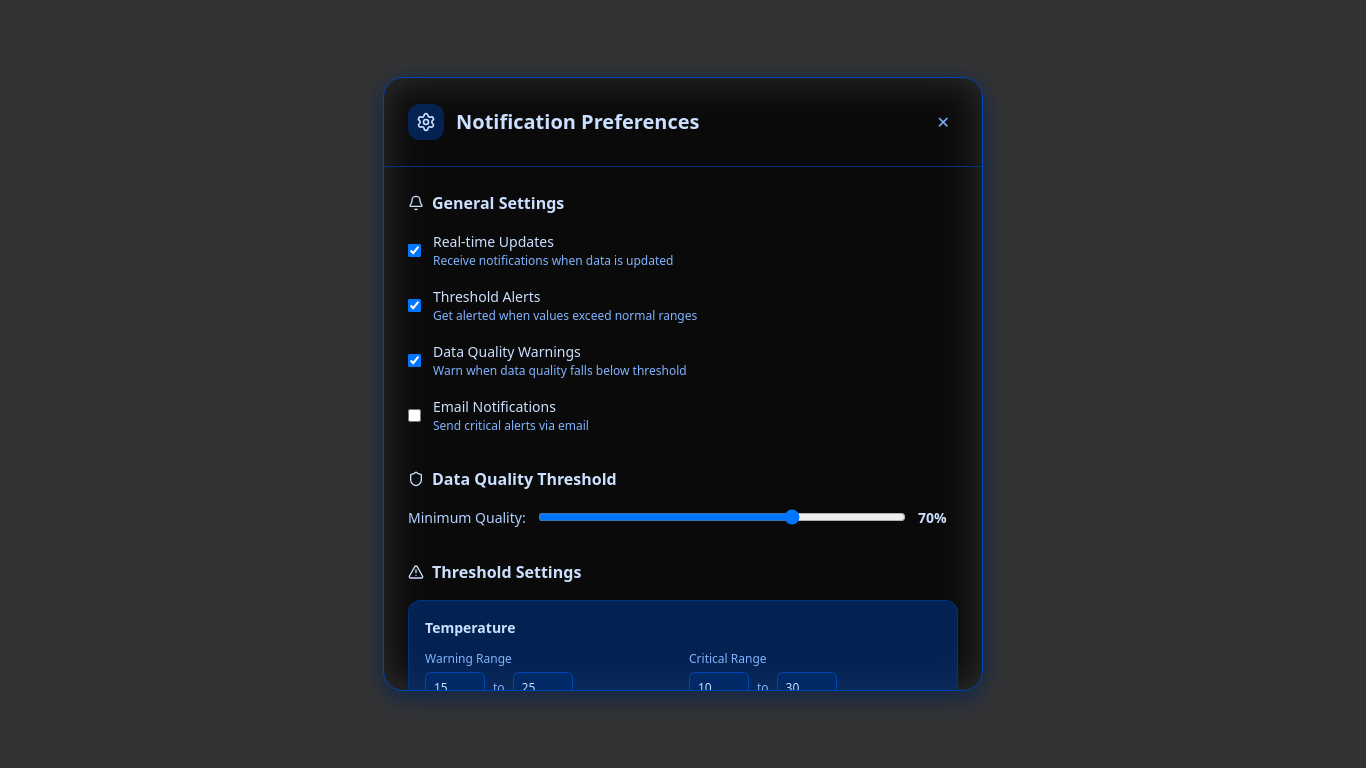
Scenario: NotificationPreferences › should toggle checkbox preferences
Click the checkbox labelled "Real-time Updates Receive notifications when data is updated" at {"x": 414, "y": 250}, box [408,244,421,257]
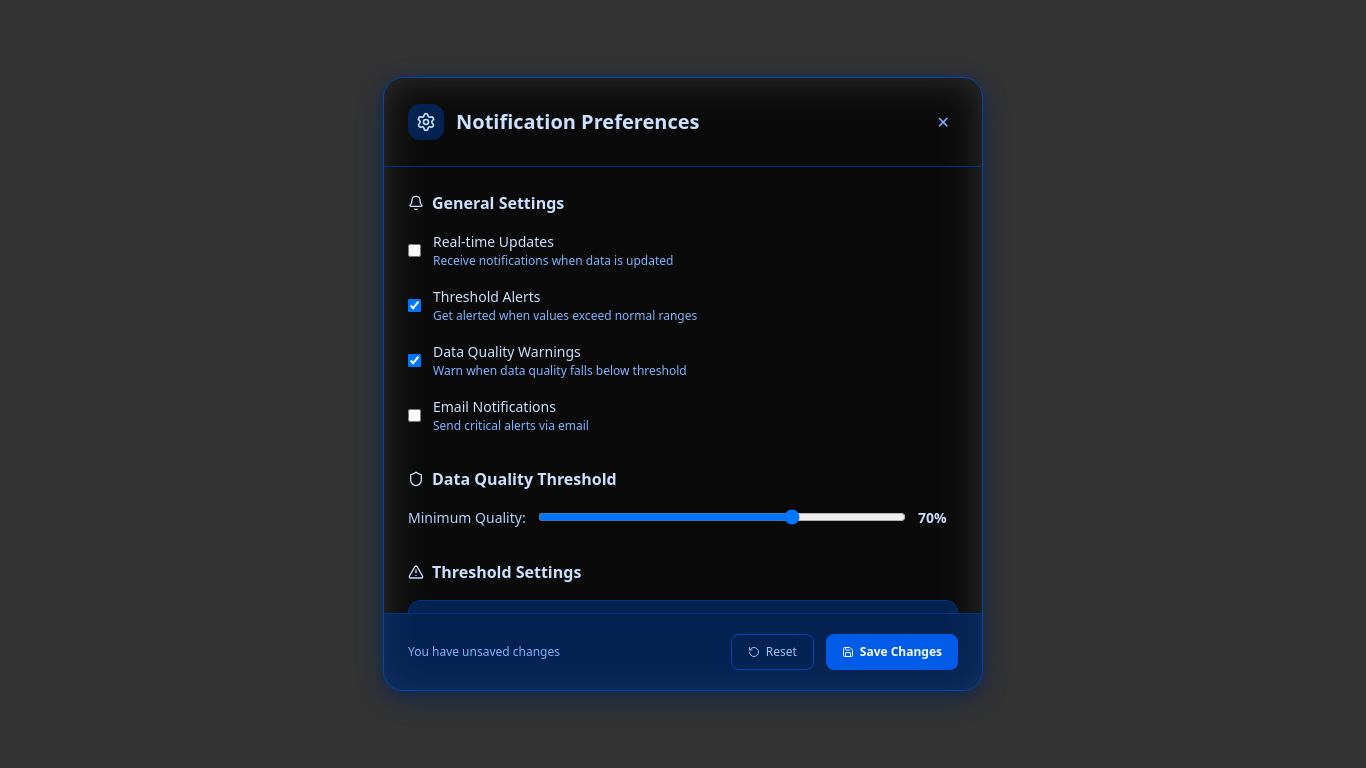
Check: the checkbox labelled "Real-time Updates Receive notifications when data is updated" is not checked, box [408,244,421,257]
Check: the text "You have unsaved changes" is shown, box [408,643,560,661]
